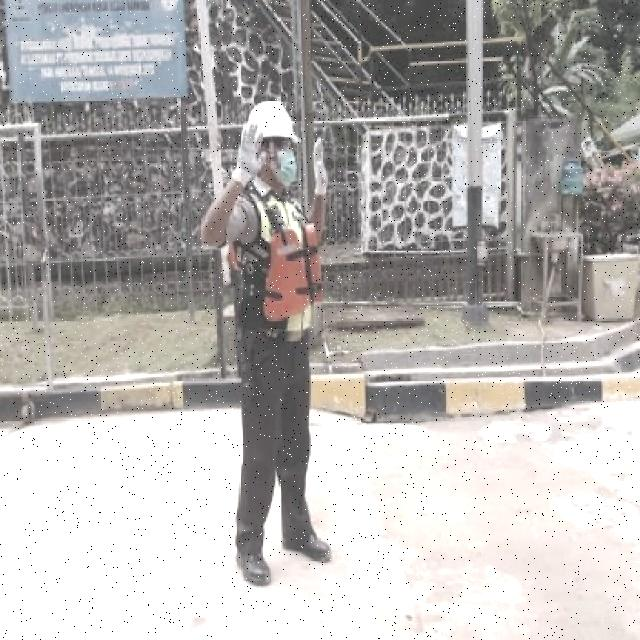Boots: (278, 522, 336, 564), (230, 544, 276, 588)
Gloves: (229, 119, 268, 192), (311, 136, 331, 198)
Helmet: (246, 102, 300, 140)
Mask: (262, 223, 326, 322)
